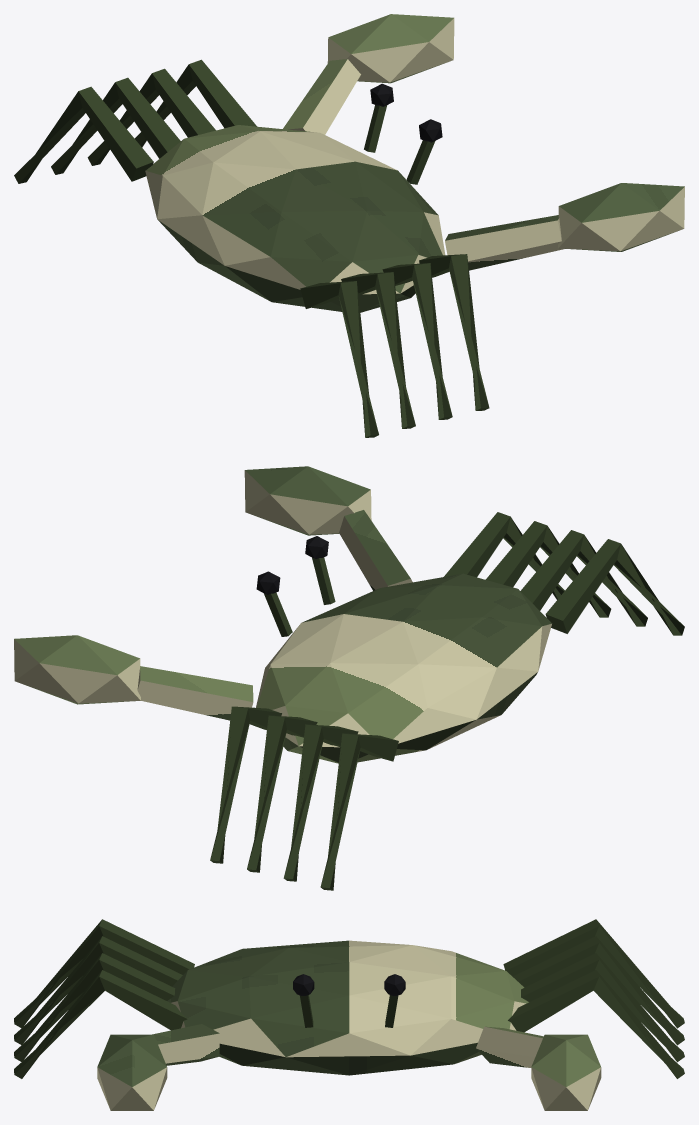
Rendered from mud_crab.glb.
3 views of the same model, one above another, from view 1: azimuth 30°, elevation 25°; view 2: azimuth 150°, elevation 25°; view 3: azimuth 270°, elevation 25° (orthographic). The views are drawn at different scales.
Visible parts, largest first — view 1: fish_mud_crab; view 2: fish_mud_crab; view 3: fish_mud_crab.
Boxes of the visible parts, x1,y1,x2,y2 form: fish_mud_crab: (14, 14, 684, 437); fish_mud_crab: (14, 466, 684, 890); fish_mud_crab: (14, 919, 684, 1110).
Size of the model in its own units: 0.7228 by 0.2887 by 1.17.
Materials: 3 (1 with a texture image).
